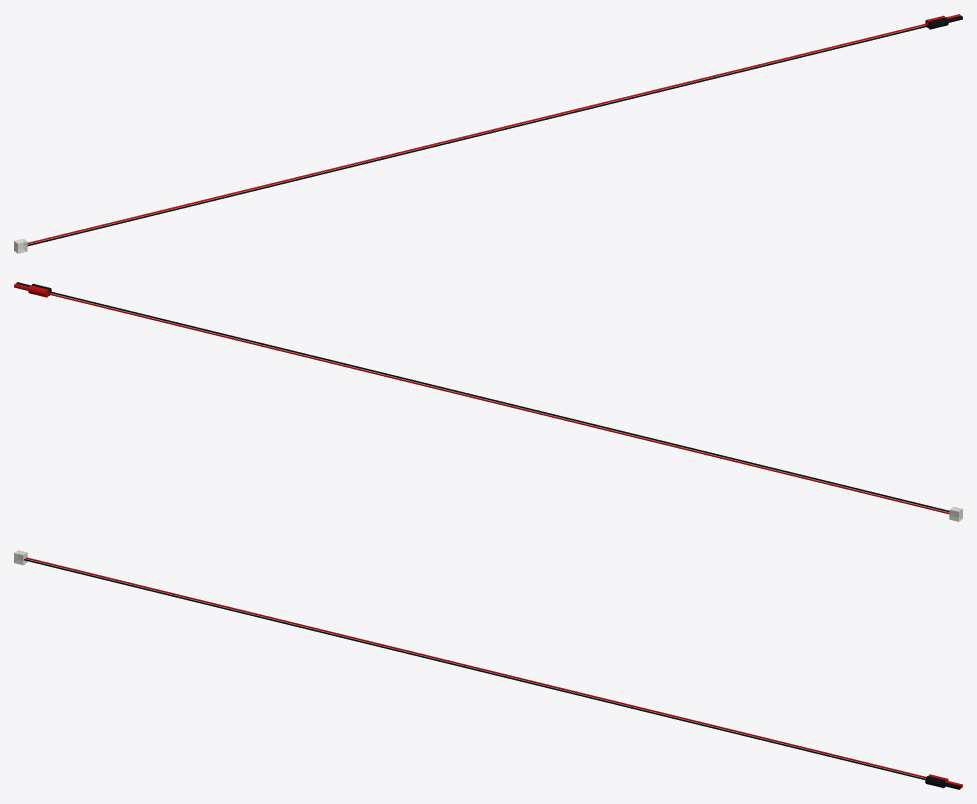
Rendered from HR30_E1_J1_logic_power_cable_candidate.glb.
3 renders of one model, top to bottom at view 1: azimuth 30°, elevation 25°; view 2: azimuth 150°, elevation 25°; view 3: azimuth 330°, elevation 25°, orthographic.
Visible parts, largest first — view 1: WIRE_J1_1_CTRL_GND_1000MM, WIRE_J1_2_AUX_5V_SAFE_1000MM; view 2: WIRE_J1_2_AUX_5V_SAFE_1000MM, WIRE_J1_1_CTRL_GND_1000MM; view 3: WIRE_J1_1_CTRL_GND_1000MM, WIRE_J1_2_AUX_5V_SAFE_1000MM.
Boxes of the visible parts, bbox=[...] form: WIRE_J1_1_CTRL_GND_1000MM: bbox=[27, 25, 929, 246]; WIRE_J1_2_AUX_5V_SAFE_1000MM: bbox=[24, 23, 927, 244]; WIRE_J1_2_AUX_5V_SAFE_1000MM: bbox=[47, 293, 949, 514]; WIRE_J1_1_CTRL_GND_1000MM: bbox=[49, 291, 952, 512]; WIRE_J1_1_CTRL_GND_1000MM: bbox=[24, 559, 925, 779]; WIRE_J1_2_AUX_5V_SAFE_1000MM: bbox=[26, 557, 926, 778].
Size of the model in its own units: 1047 by 10.6 by 11.96.
